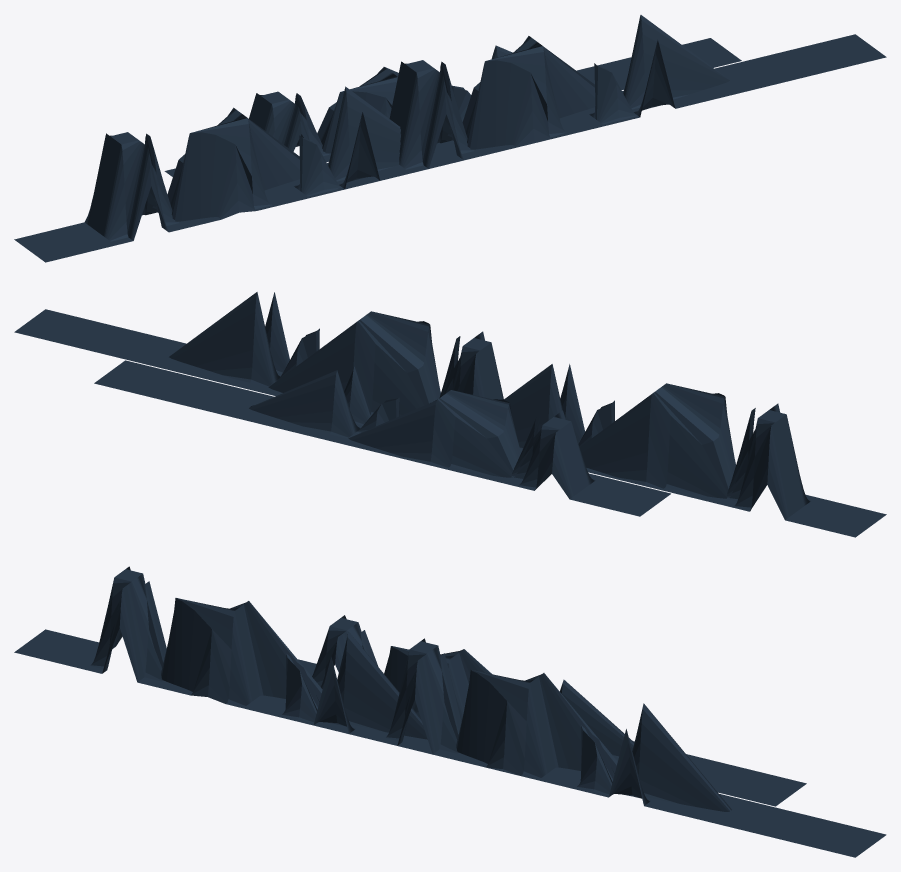
Rendered from mountain_close.glb.
3 renders of one model, top to bottom at view 1: azimuth 30°, elevation 25°; view 2: azimuth 150°, elevation 25°; view 3: azimuth 330°, elevation 25°, orthographic.
Visible parts, largest first — view 1: Plane.001, Plane.002, Plane; view 2: Plane, Plane.001, Plane.002; view 3: Plane.001, Plane.002, Plane.
Boxes of the visible parts, left/top/right/bottom form: Plane.001: left=337, top=15, right=886, bottom=190; Plane.002: left=14, top=86, right=590, bottom=262; Plane: left=164, top=38, right=741, bottom=176; Plane: left=94, top=360, right=670, bottom=516; Plane.001: left=14, top=292, right=522, bottom=450; Plane.002: left=370, top=364, right=886, bottom=537; Plane.001: left=312, top=638, right=886, bottom=857; Plane.002: left=14, top=566, right=576, bottom=785; Plane: left=298, top=615, right=806, bottom=806.
Bounding box in the file's own units: 185 × 18.4 × 24.35.
